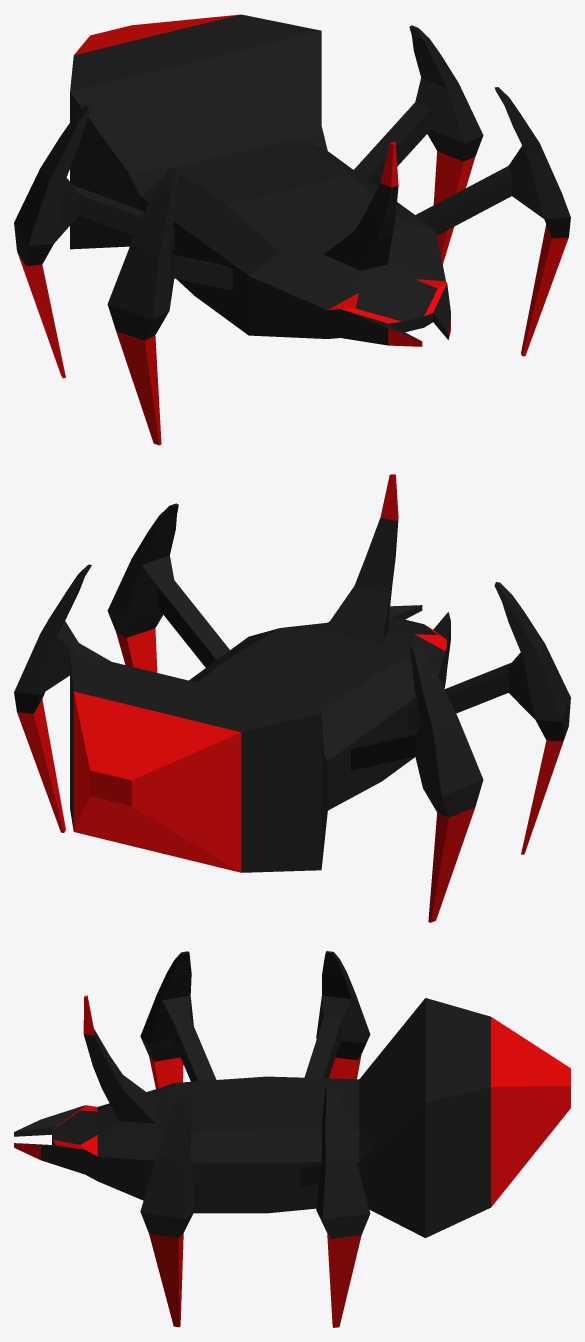
The model's file is NewSpiderOni.fbx.
3 renders of one model, top to bottom at view 1: azimuth 30°, elevation 25°; view 2: azimuth 150°, elevation 25°; view 3: azimuth 270°, elevation 25°, orthographic. The views are drawn at different scales.
Parts seen in each view (by area): view 1: Body, Leg4, Leg1, Leg3, Leg2; view 2: Body, Leg3, Leg2, Leg4, Leg1; view 3: Body, Leg2, Leg1, Leg4, Leg3.
Part boxes in pixels (left/top/right/bottom): Body: left=70, top=14, right=450, bottom=346; Leg4: left=107, top=166, right=232, bottom=445; Leg1: left=354, top=25, right=483, bottom=264; Leg3: left=14, top=104, right=174, bottom=378; Leg2: left=415, top=87, right=570, bottom=356; Body: left=70, top=474, right=450, bottom=872; Leg3: left=351, top=644, right=483, bottom=922; Leg2: left=107, top=503, right=229, bottom=672; Leg4: left=408, top=582, right=570, bottom=854; Leg1: left=14, top=564, right=110, bottom=832; Body: left=14, top=995, right=570, bottom=1237; Leg2: left=140, top=1086, right=221, bottom=1327; Leg1: left=300, top=1087, right=370, bottom=1327; Leg4: left=140, top=951, right=216, bottom=1088; Leg3: left=304, top=951, right=370, bottom=1079.
Bounding box in the file's own units: 487 × 301 × 600.
